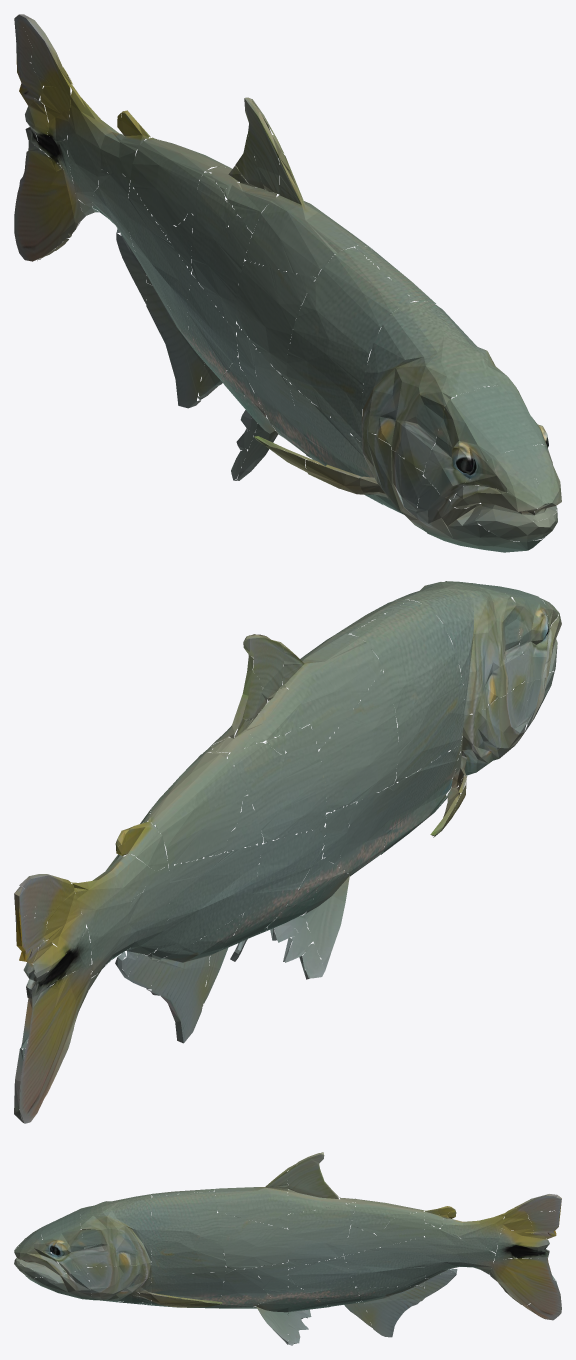
Rendered from dorado.glb.
3 views of the same model, one above another, from view 1: azimuth 30°, elevation 25°; view 2: azimuth 150°, elevation 25°; view 3: azimuth 270°, elevation 25° (orthographic). The views are drawn at different scales.
Visible parts, largest first — view 1: tripo_node_05672dae-2b45-4ddb-9305-c05434011ae4; view 2: tripo_node_05672dae-2b45-4ddb-9305-c05434011ae4; view 3: tripo_node_05672dae-2b45-4ddb-9305-c05434011ae4.
Part boxes in pixels (left/top/right/bottom): tripo_node_05672dae-2b45-4ddb-9305-c05434011ae4: left=14, top=14, right=561, bottom=552; tripo_node_05672dae-2b45-4ddb-9305-c05434011ae4: left=14, top=581, right=561, bottom=1123; tripo_node_05672dae-2b45-4ddb-9305-c05434011ae4: left=14, top=1152, right=561, bottom=1345.
Size of the model in its own units: 0.198 by 0.3721 by 1.
1 material, 1 textured.
